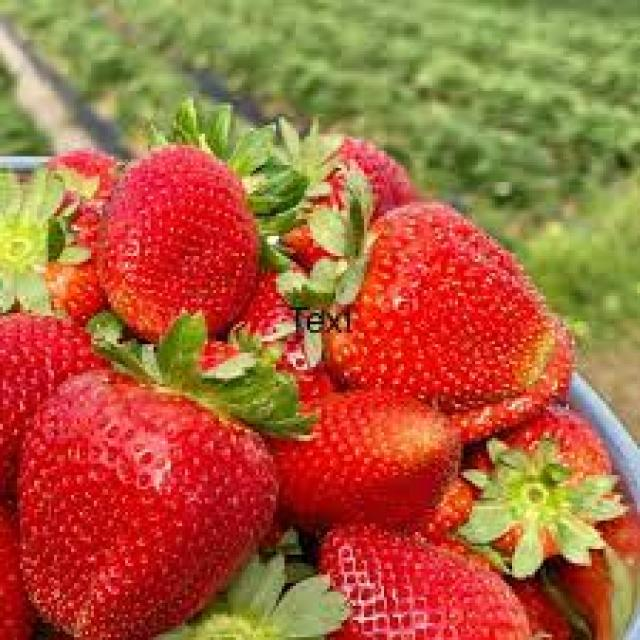strawberry: (16, 369, 276, 639), (323, 198, 568, 436), (81, 147, 265, 338), (266, 386, 462, 534)
